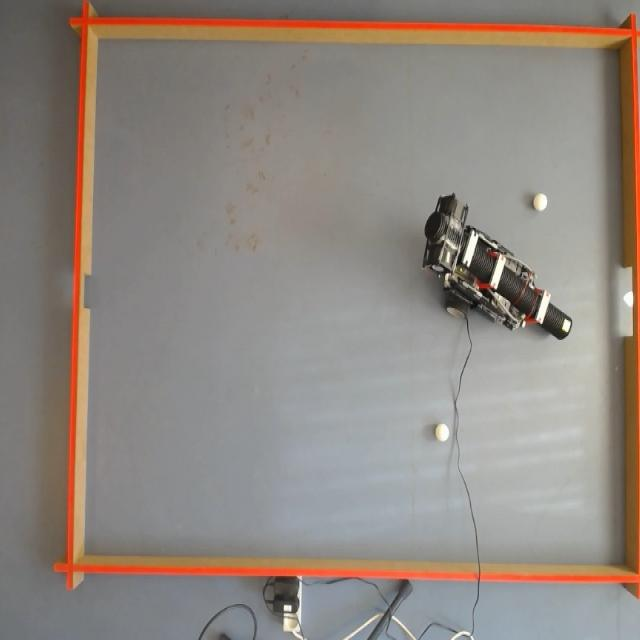robot: (424, 193, 573, 340)
robot-front: (543, 304, 573, 340)
white: (434, 423, 451, 443), (533, 193, 548, 211)
